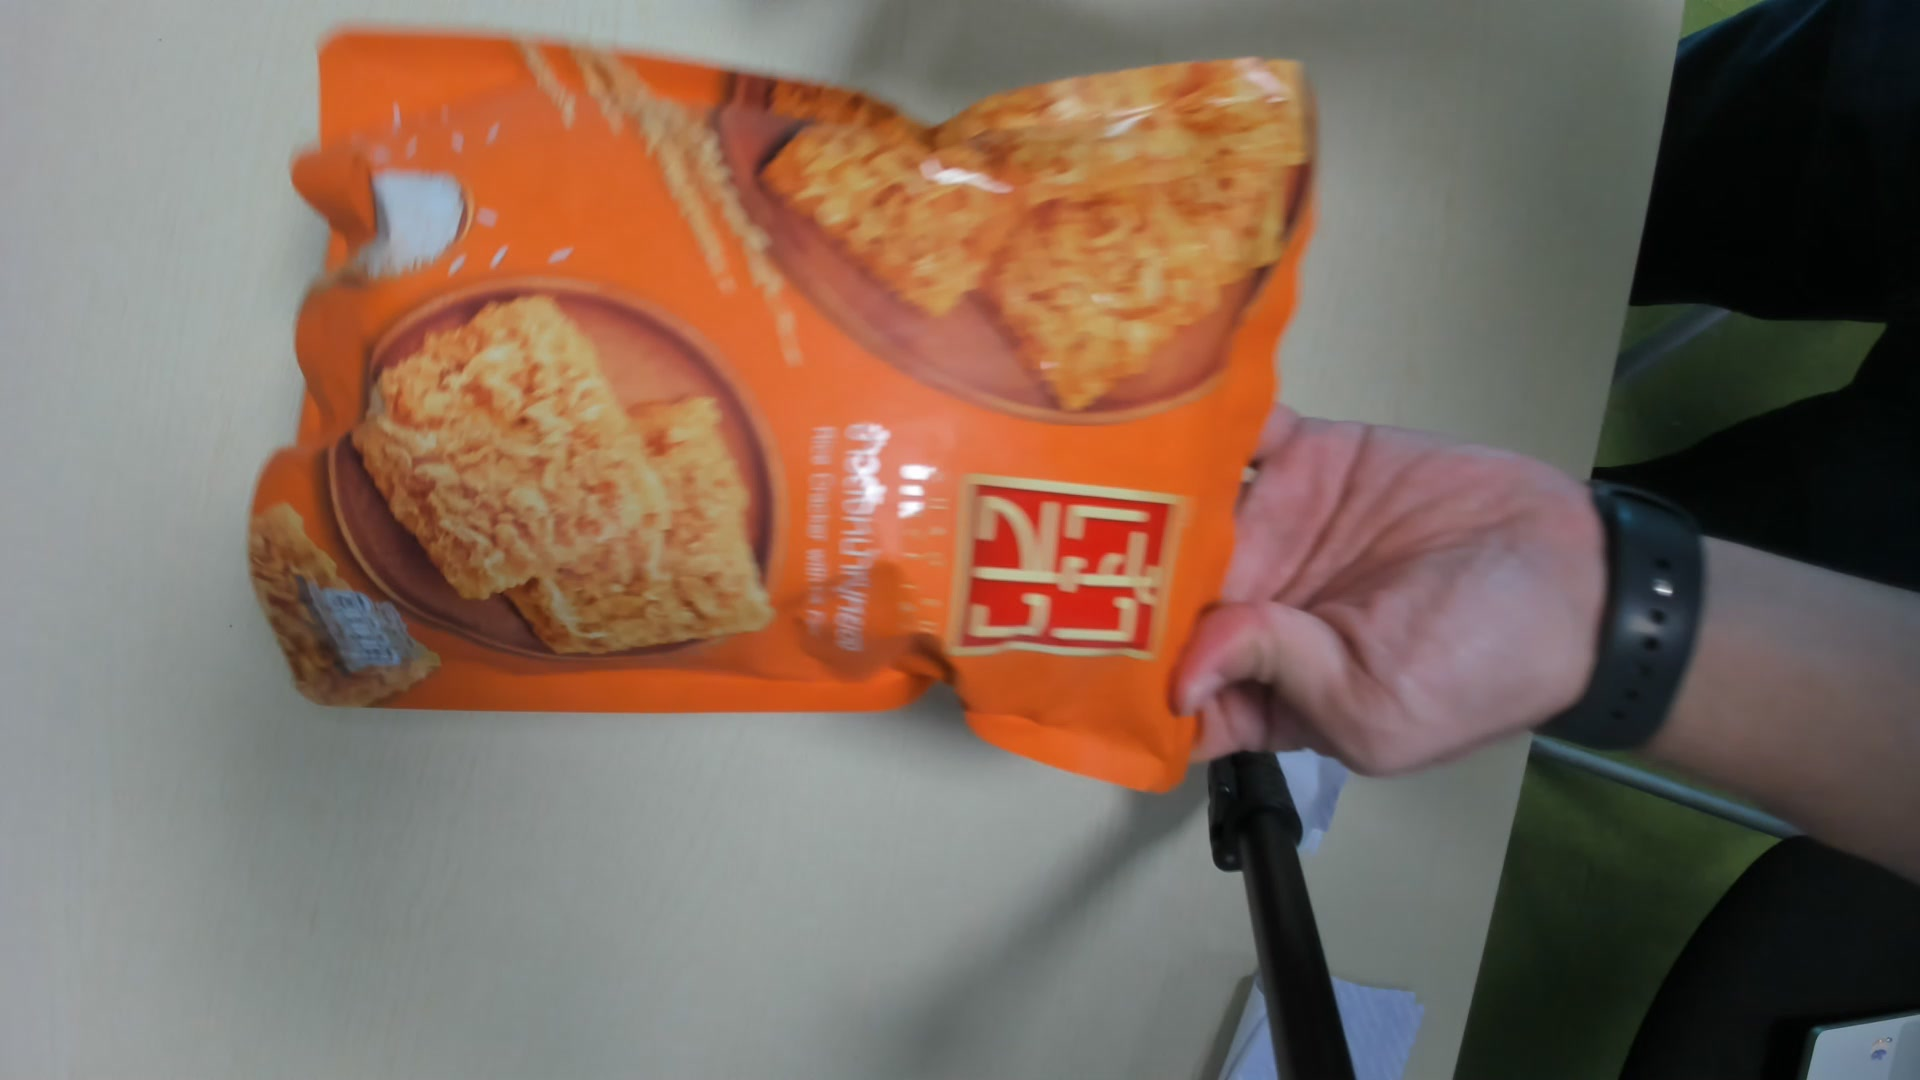PotatoChipsKeropok_0-99g_NonHalal_NonHealthy: (224, 36, 1298, 789)
